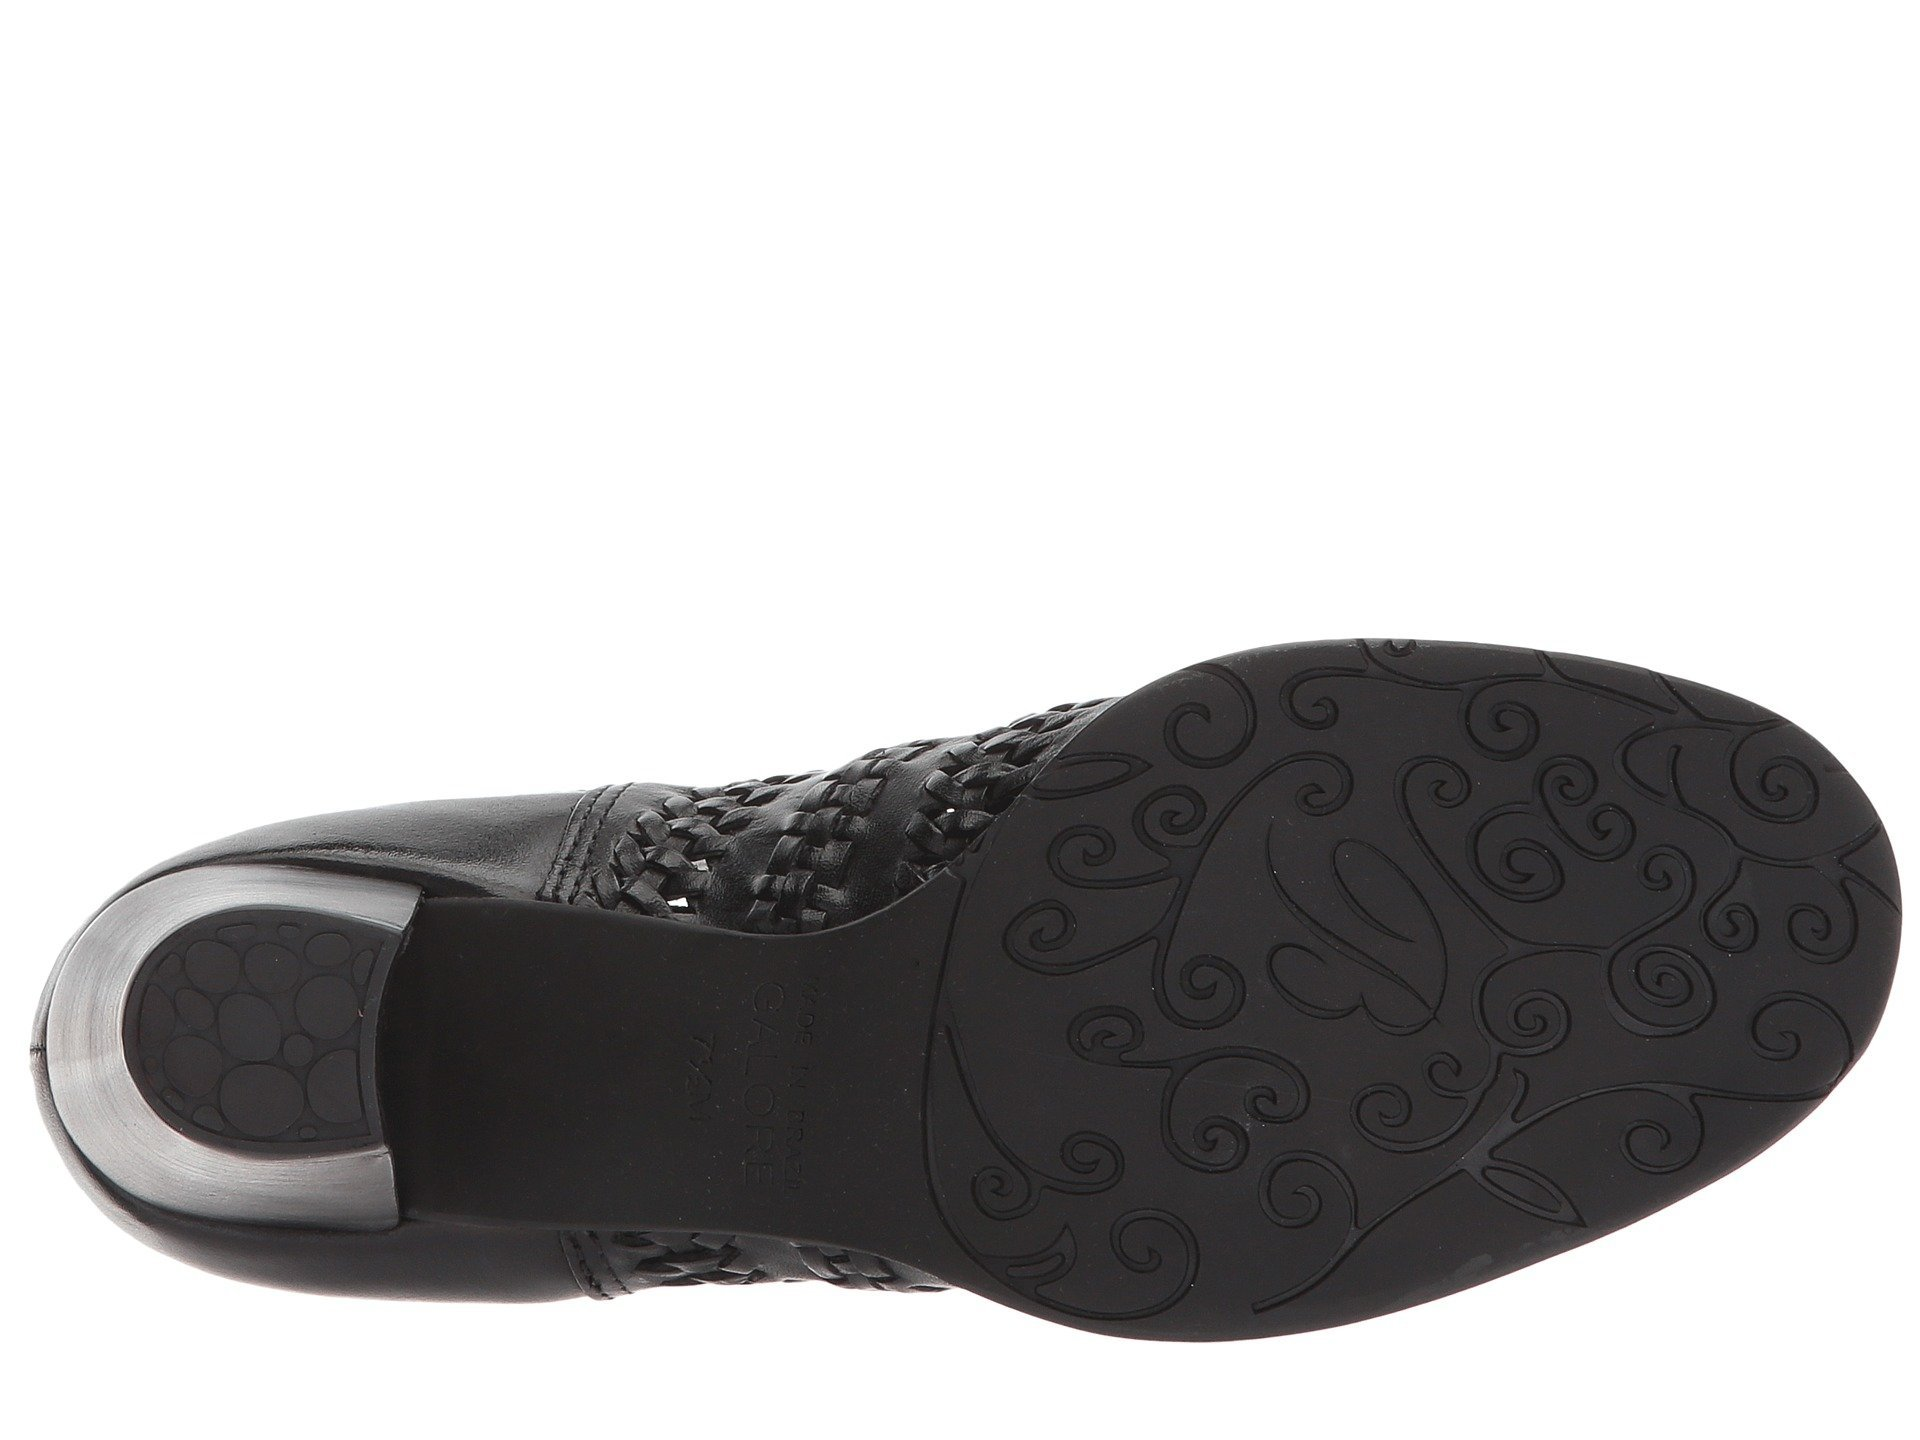other: (1196, 725, 1668, 1171)
text: (1196, 725, 1668, 1171)
